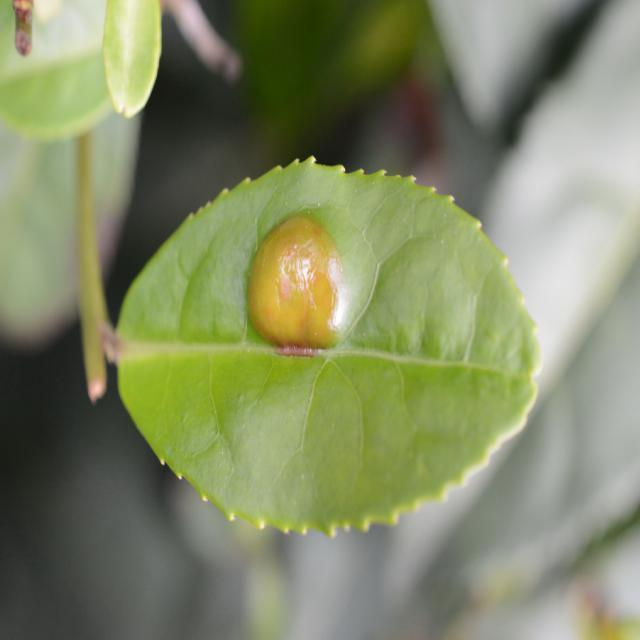Tea cake: (231, 207, 367, 334)
